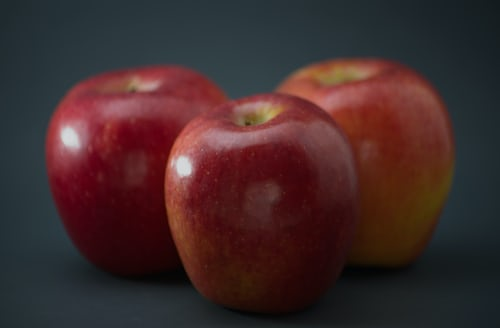apple: (160, 88, 364, 317), (41, 60, 230, 291), (271, 54, 452, 274)
